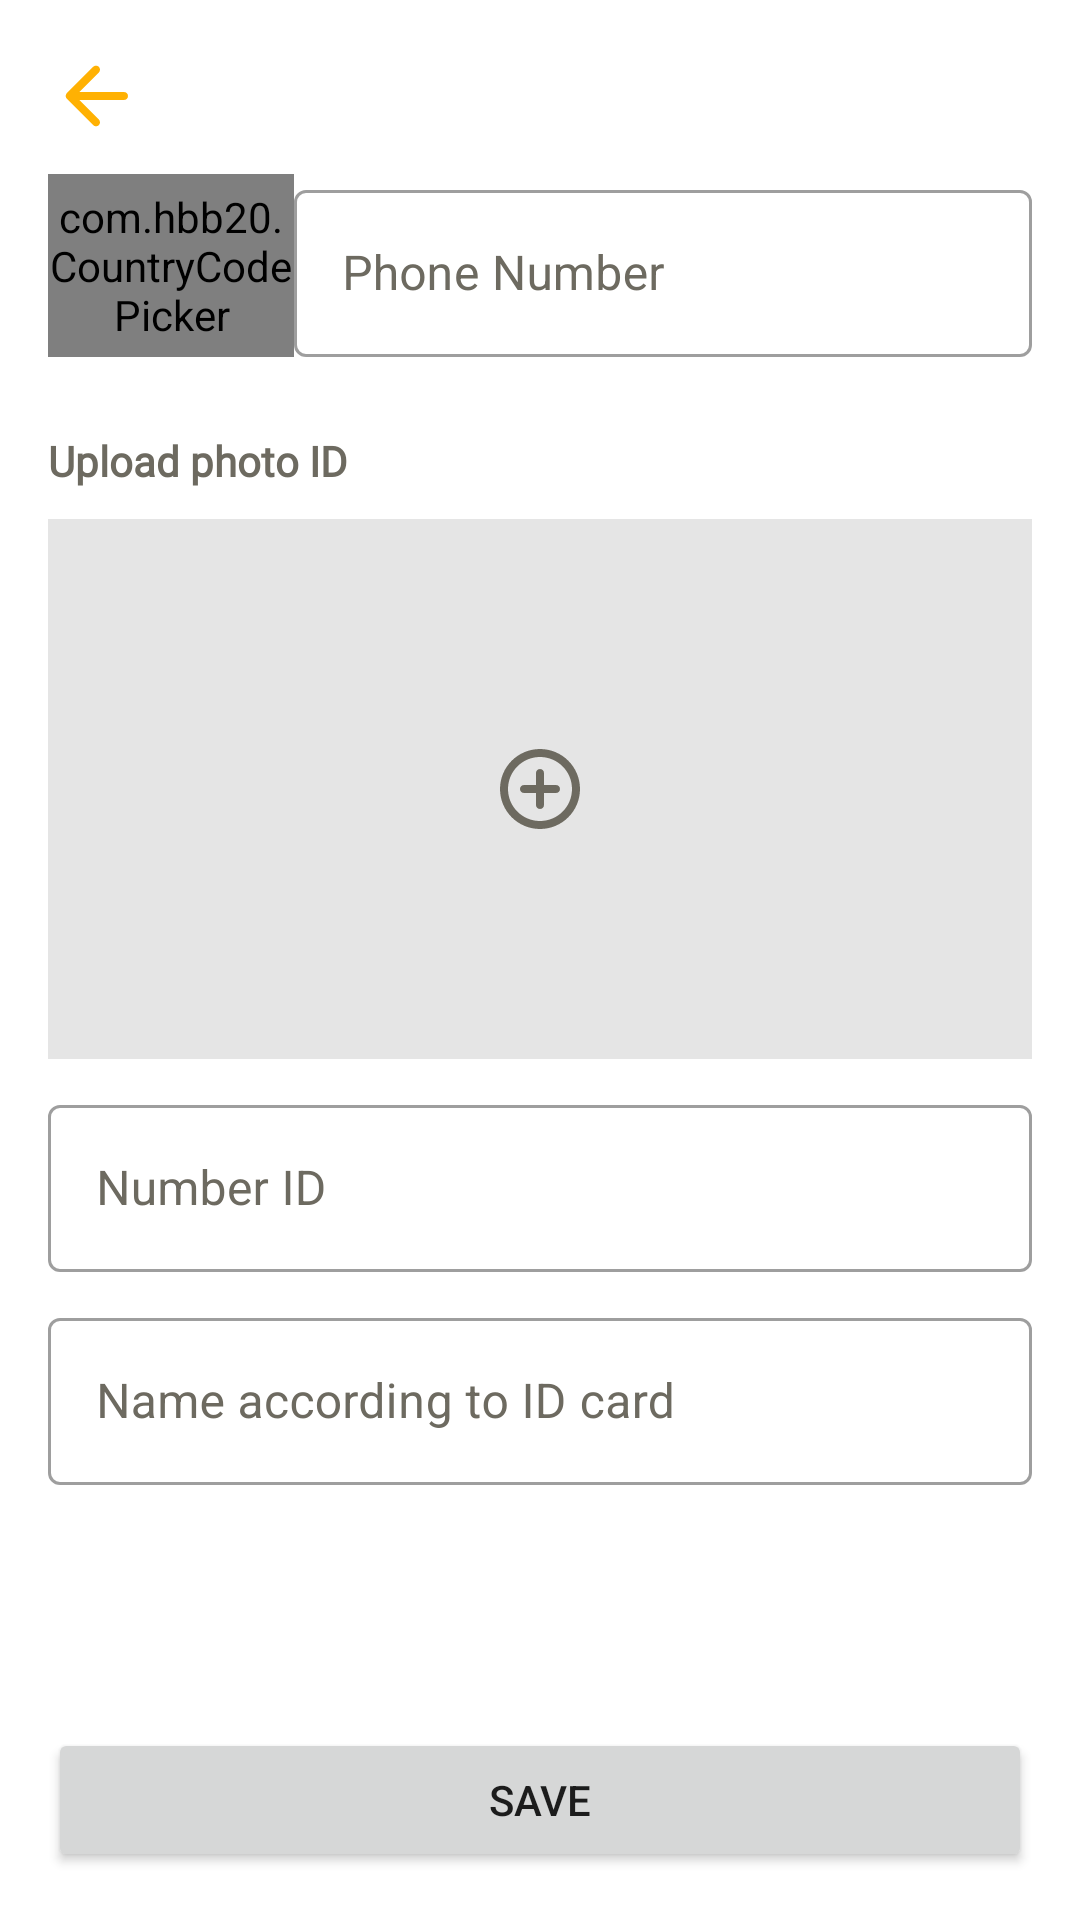

Icon bounding boxes for this 1080 × 1920 phone screenshot, format rect(x1, y1, x2, y2):
back: rect(65, 65, 128, 127)
